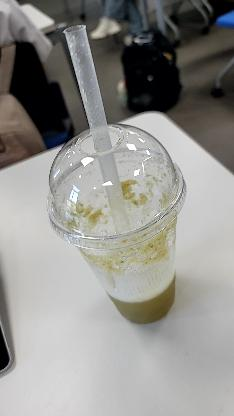Plastic Cup: (44, 121, 188, 326), (44, 121, 196, 253), (61, 28, 141, 233)
